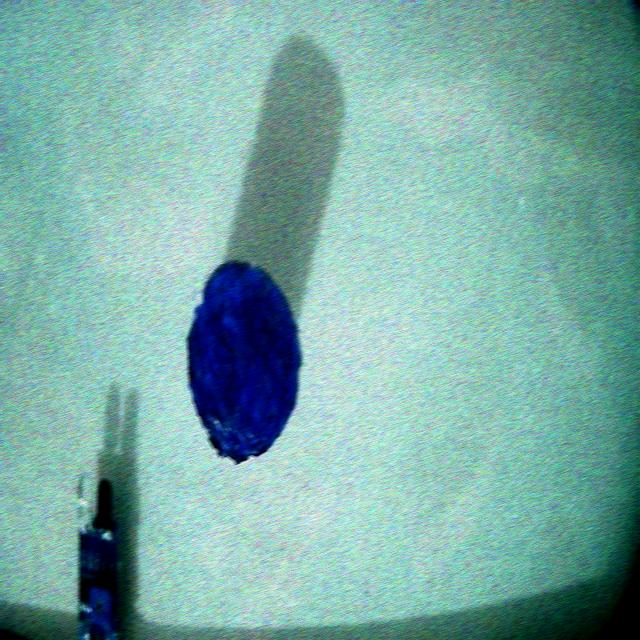blue: (186, 261, 301, 463)
